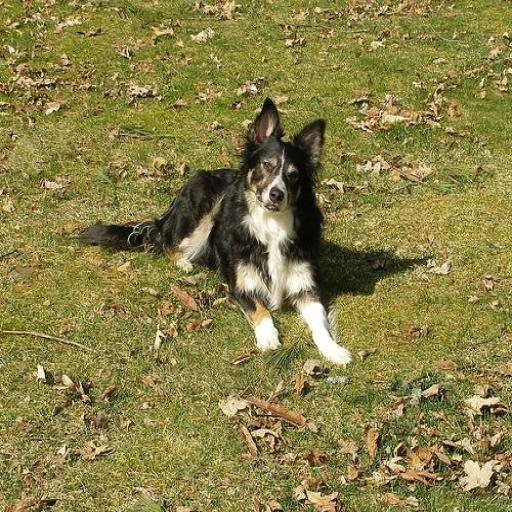dog_face: (244, 100, 328, 215)
